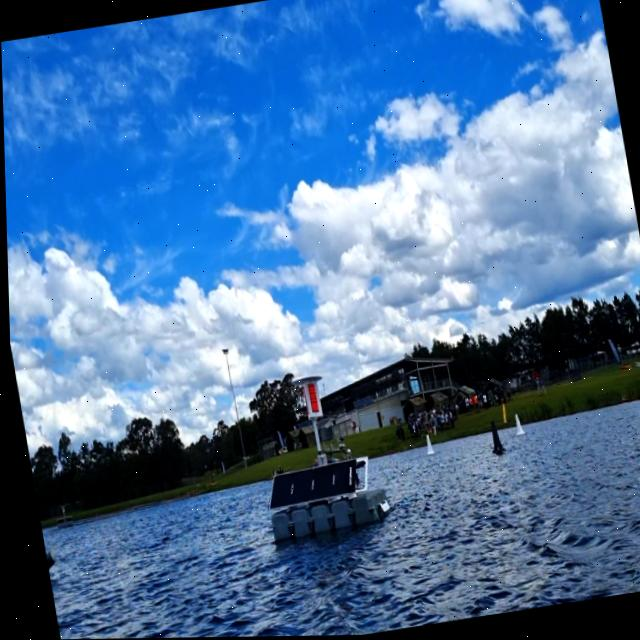led: (302, 381, 319, 417)
